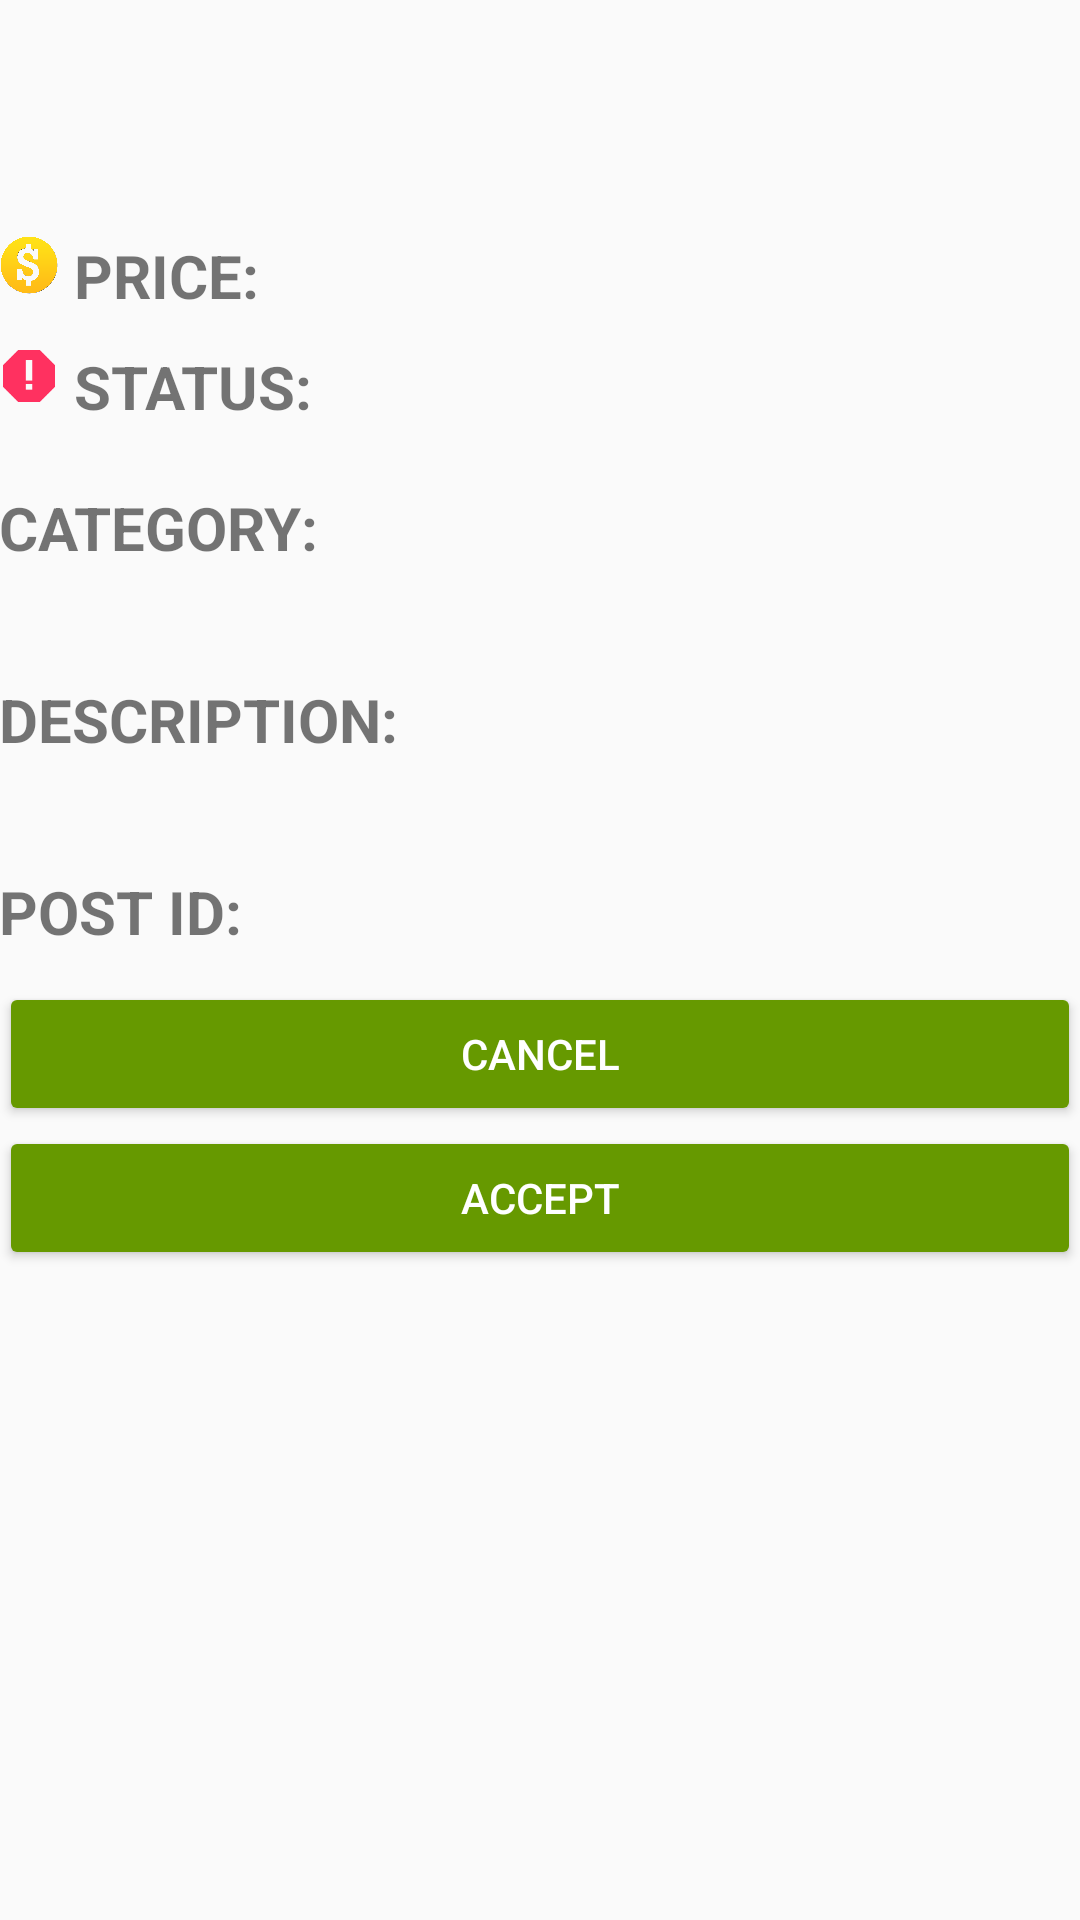

Locate icon controls on the screen. Image size 1080x1920, boxes as Rect(x1, y1, x2, y2).
dollar: Rect(1, 237, 58, 294)
